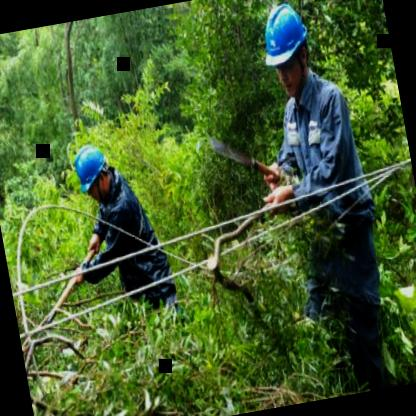helmet: (250, 0, 324, 101), (66, 138, 122, 210)
